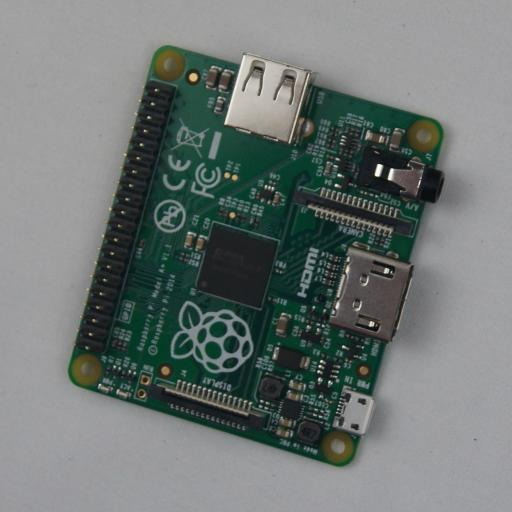Raspberry Pi A-: (68, 46, 444, 466)
